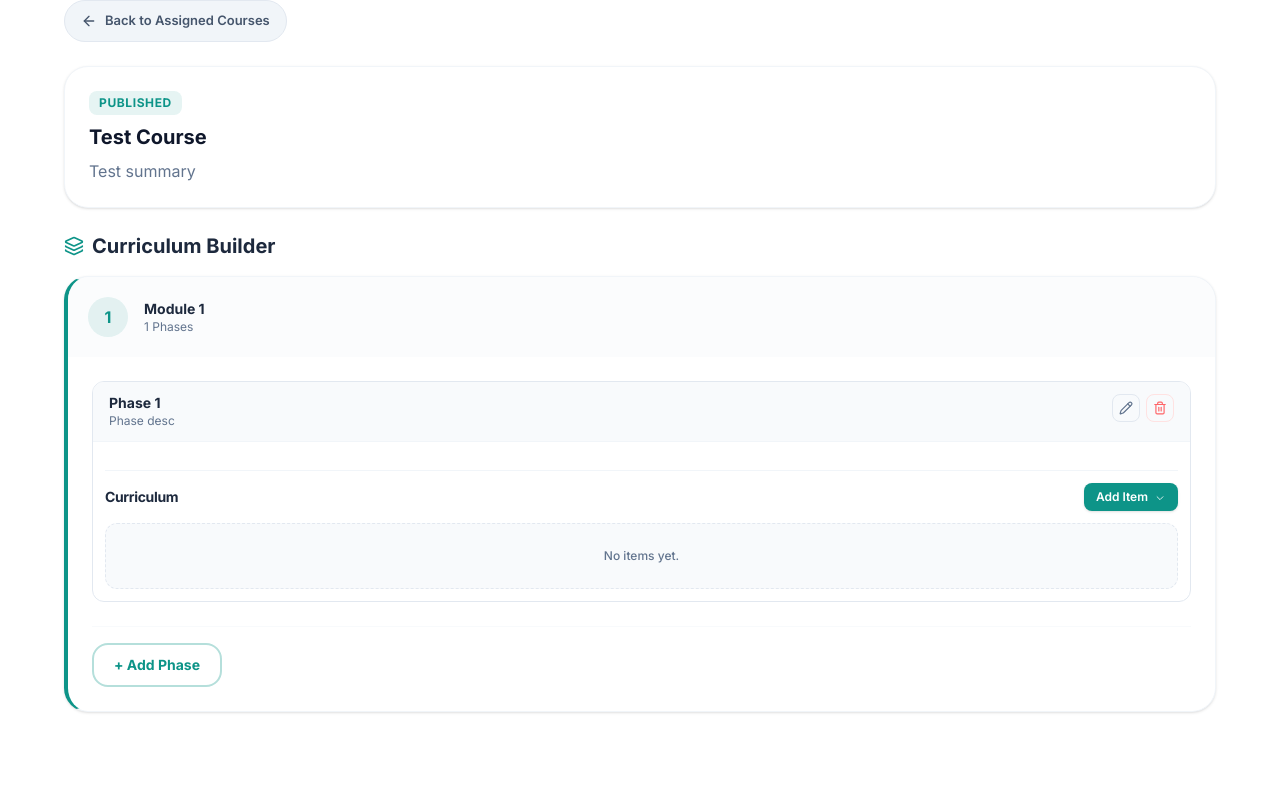
Scenario: CourseDetail - Instructor interaction tests (API-based) › opens Add Phase modal when clicking Add Phase
This screenshot has width=1280, height=800.
expect the heading "Module 1" is shown: met, box left=144, top=298, right=205, bottom=318
Click the button "+ Add Phase".
click(157, 665)  # box left=92, top=643, right=222, bottom=687
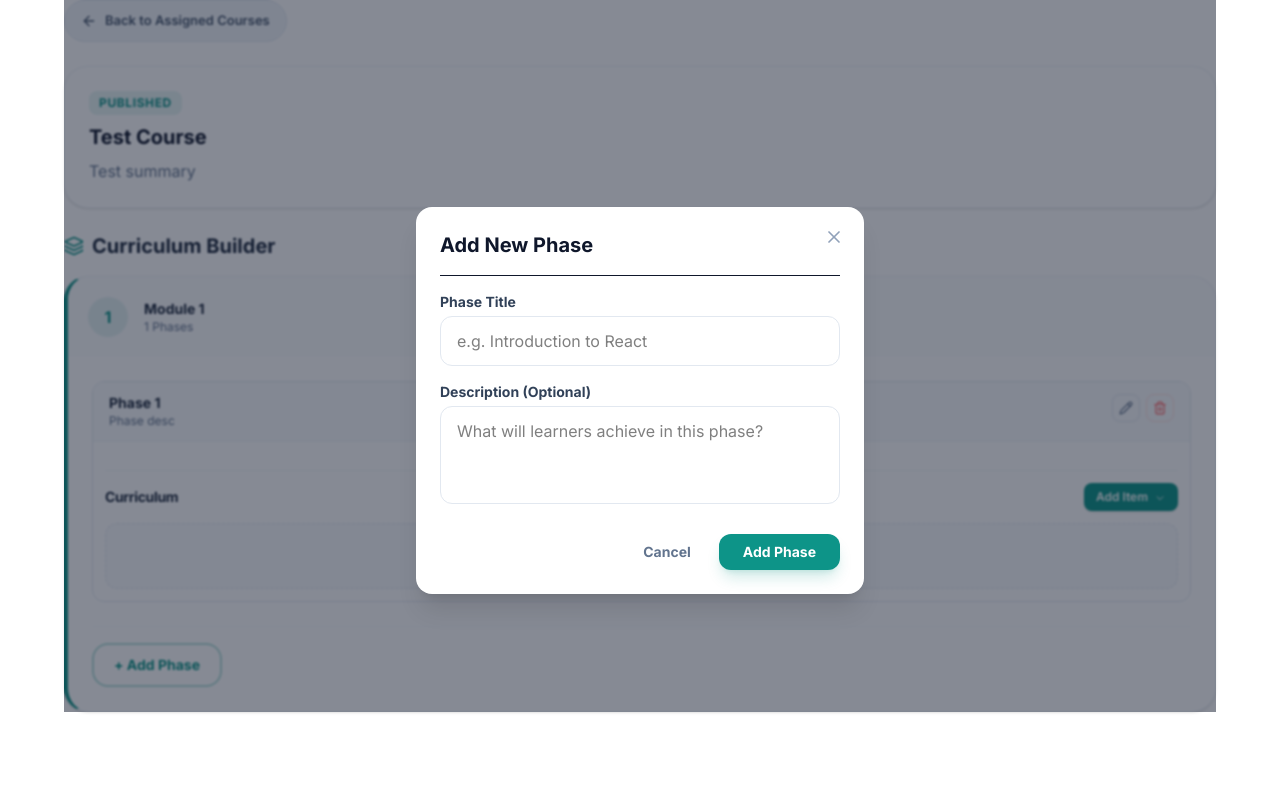
expect the heading "Add New Phase" is shown: met, box left=440, top=230, right=840, bottom=276
